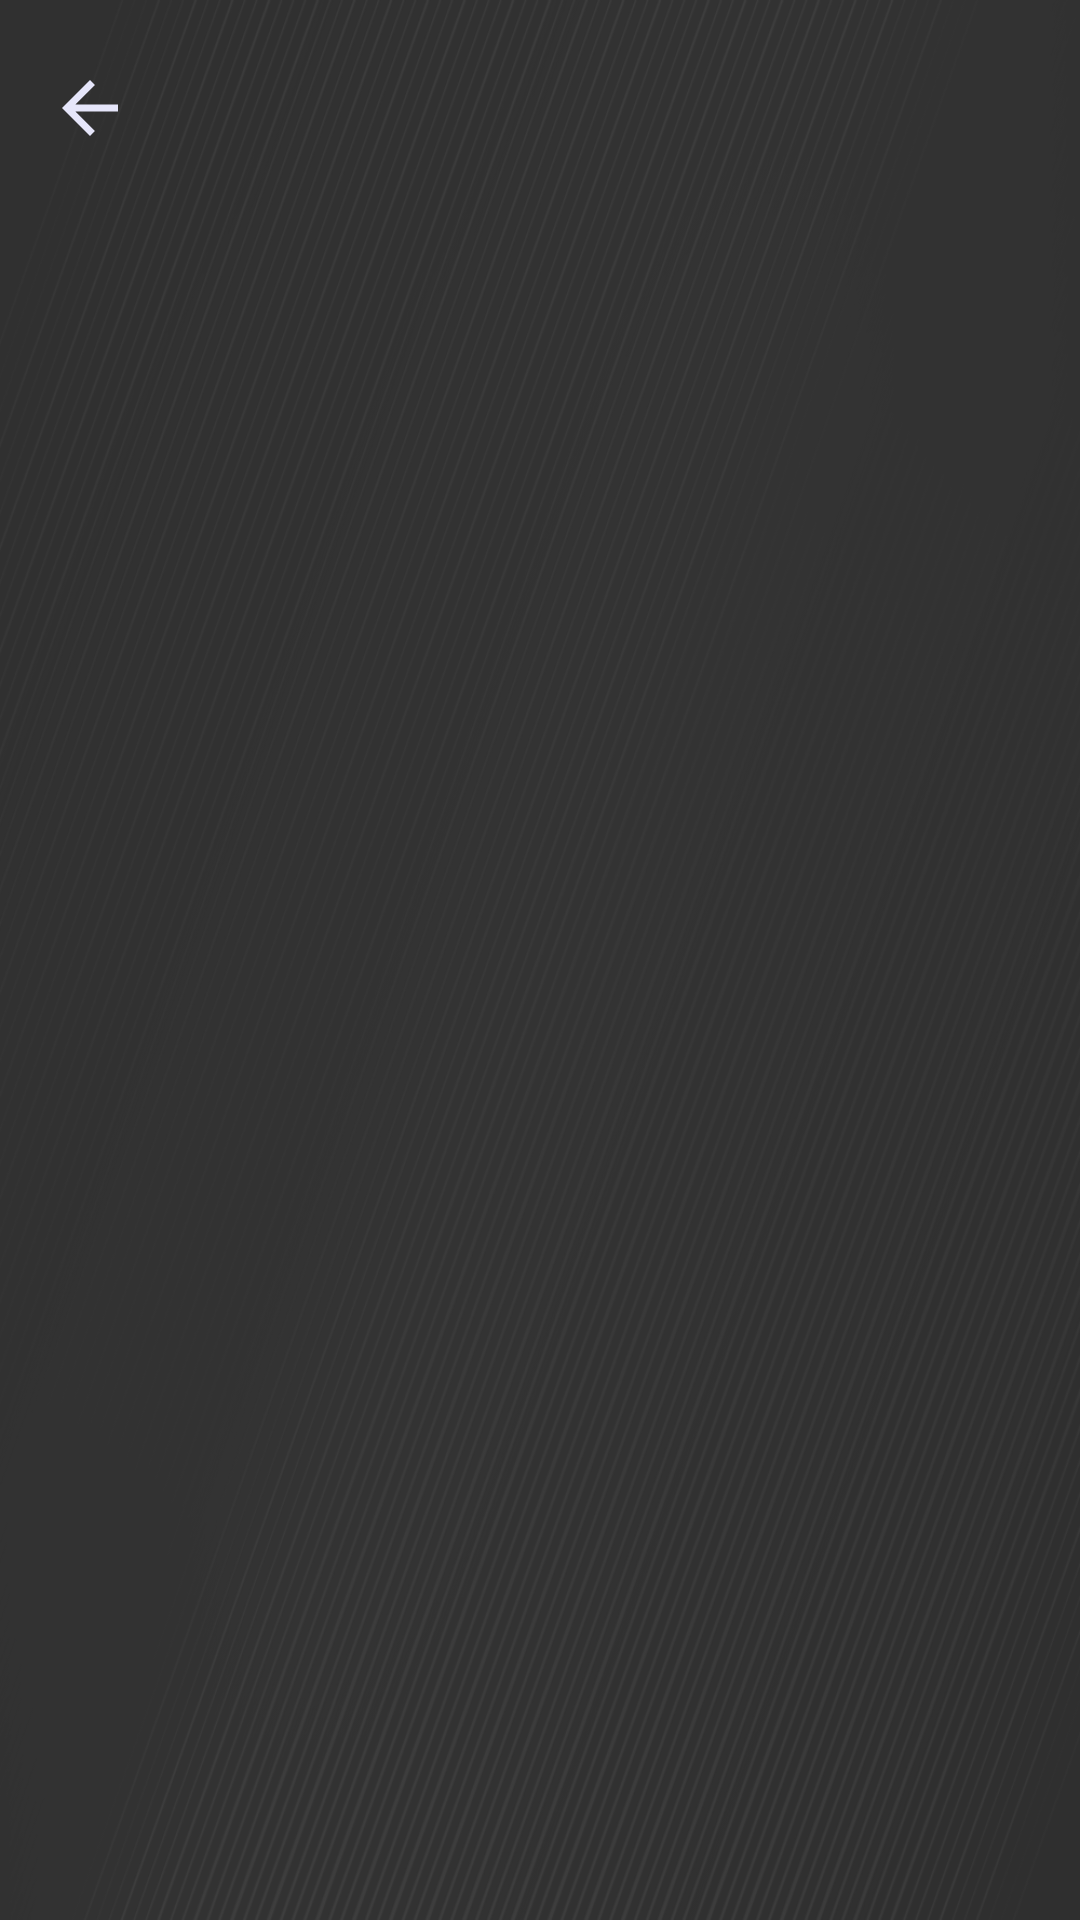

Locate icon controls on the screen. Image size 1080x1920, boxes as (x1, y1, x2, y2).
left arrow ver: (62, 80, 118, 136)
